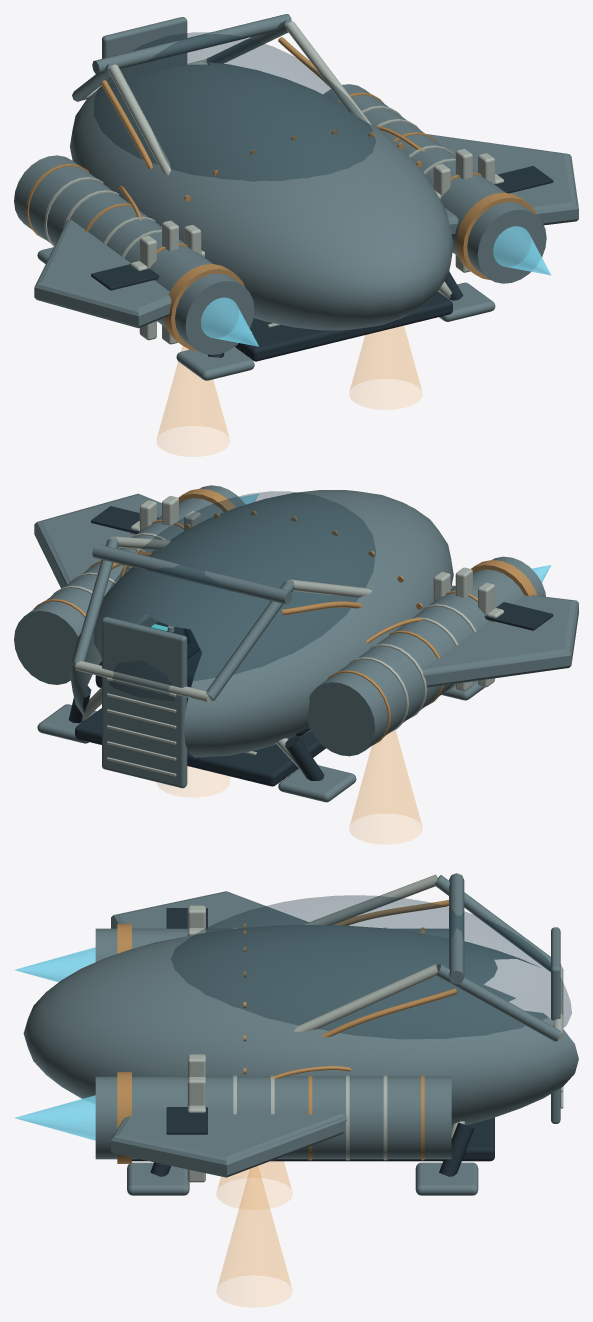
The model's file is ship.glb.
3 views of the same model, one above another, from view 1: azimuth 30°, elevation 25°; view 2: azimuth 150°, elevation 25°; view 3: azimuth 270°, elevation 25° (orthographic). The views are drawn at different scales.
Visible parts, largest first — view 1: object 71, object 72, object 74, object 94, object 73, object 93, Landing_thrust_0, Landing_thrust_1, object 113, Ship_hatch, object 175, Thrust_1 (+9 smaller); view 2: object 71, object 72, object 74, Ship_hatch, object 73, object 94, Landing_thrust_0, object 93, object 113, object 175, object 87, object 92 (+13 smaller); view 3: object 71, object 72, object 94, object 93, Landing_thrust_1, object 73, Landing_thrust_0, Thrust_1, object 107, object 74, object 110, object 175 (+12 smaller).
Part boxes in pixels (bbox=[...]): object 71: bbox=[70, 61, 453, 330]; object 72: bbox=[94, 32, 375, 181]; object 74: bbox=[14, 155, 254, 354]; object 94: bbox=[323, 84, 546, 283]; object 73: bbox=[34, 219, 233, 328]; object 93: bbox=[426, 134, 578, 236]; Landing_thrust_0: bbox=[156, 346, 229, 456]; Landing_thrust_1: bbox=[349, 326, 422, 409]; object 113: bbox=[235, 291, 452, 361]; Ship_hatch: bbox=[102, 17, 187, 83]; object 175: bbox=[92, 14, 291, 74]; Thrust_1: bbox=[493, 226, 551, 275]; object 71: bbox=[70, 490, 453, 757]; object 72: bbox=[94, 491, 375, 700]; object 74: bbox=[307, 556, 545, 756]; Ship_hatch: bbox=[102, 617, 187, 788]; object 73: bbox=[422, 585, 578, 687]; object 94: bbox=[14, 485, 245, 684]; Landing_thrust_0: bbox=[349, 730, 422, 844]; object 93: bbox=[34, 493, 161, 662]; object 113: bbox=[75, 650, 325, 786]; object 175: bbox=[92, 544, 292, 604]; object 87: bbox=[278, 765, 356, 802]; object 92: bbox=[206, 581, 294, 700]; object 71: bbox=[23, 925, 578, 1126]; object 72: bbox=[171, 895, 571, 1039]; object 94: bbox=[95, 1076, 451, 1159]; object 93: bbox=[111, 1113, 346, 1177]; Landing_thrust_1: bbox=[216, 1166, 292, 1307]; object 73: bbox=[111, 891, 308, 928]; Landing_thrust_0: bbox=[216, 1161, 292, 1208]; Thrust_1: bbox=[15, 1095, 95, 1140]; object 107: bbox=[415, 1162, 478, 1195]; object 74: bbox=[95, 928, 448, 961]; object 110: bbox=[127, 1162, 189, 1195]; object 175: bbox=[449, 873, 464, 984].
Bounding box in the file's own units: 6.69 × 3.83 × 5.87.
